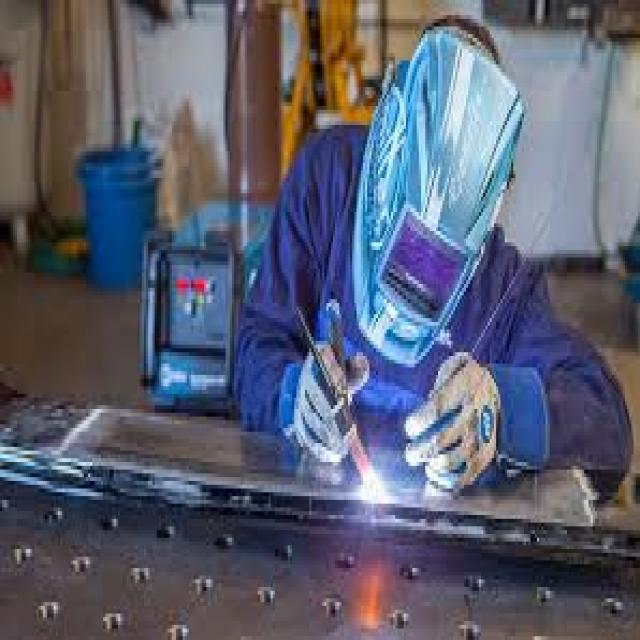welding: (364, 466, 389, 500)
